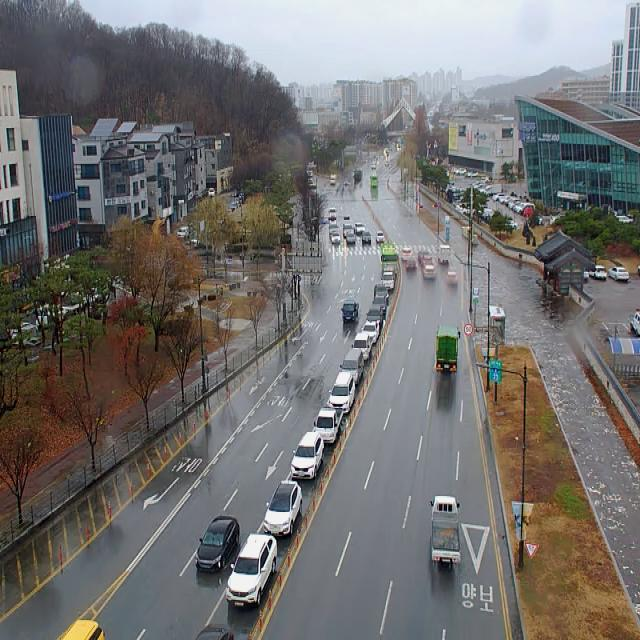Bus: (370, 176, 378, 188)
Car: (226, 535, 278, 607), (195, 516, 240, 572), (264, 481, 302, 537), (290, 432, 324, 479), (328, 372, 356, 414), (314, 407, 343, 442), (61, 619, 105, 640), (340, 349, 364, 385), (194, 622, 233, 640), (361, 320, 379, 344), (366, 304, 383, 326), (374, 284, 389, 306), (608, 267, 629, 281), (588, 266, 607, 280), (373, 294, 386, 314), (380, 272, 394, 290), (446, 271, 458, 287), (422, 256, 434, 272), (424, 265, 436, 280), (177, 226, 189, 238), (343, 224, 354, 237), (402, 248, 412, 262), (406, 260, 417, 272), (418, 250, 429, 262), (355, 222, 365, 235), (362, 232, 371, 246), (329, 224, 338, 237), (376, 230, 384, 243), (346, 234, 356, 244), (331, 234, 341, 244), (330, 174, 337, 185), (329, 208, 336, 217), (209, 187, 215, 197), (329, 219, 336, 225), (638, 264, 640, 276), (344, 182, 349, 186)
Truck: (430, 496, 460, 564), (436, 326, 460, 372), (381, 244, 398, 278), (352, 334, 372, 360), (630, 309, 640, 336), (439, 244, 450, 264), (354, 170, 362, 181)
